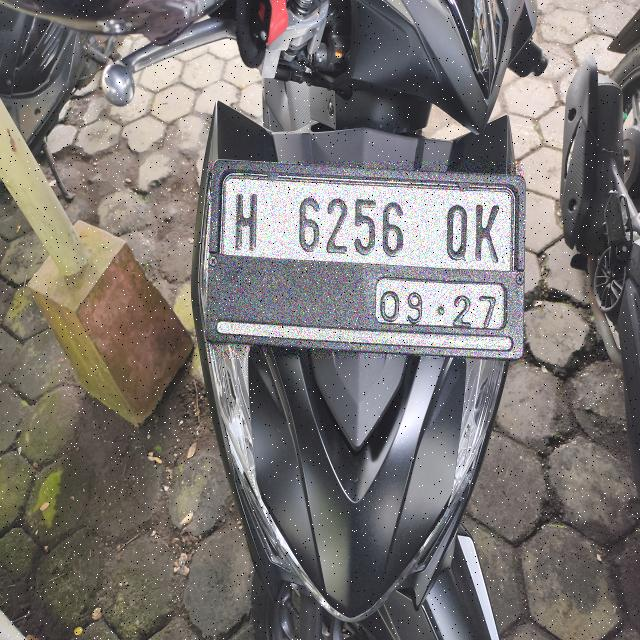plate: (207, 161, 523, 358)
